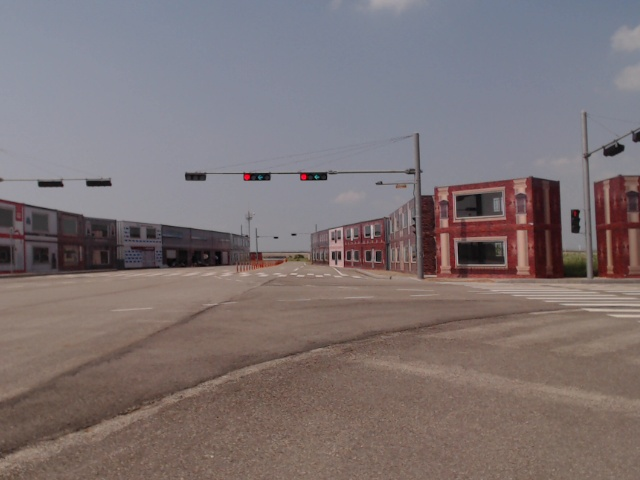left_green_4: (244, 174, 270, 181), (300, 174, 326, 180)
